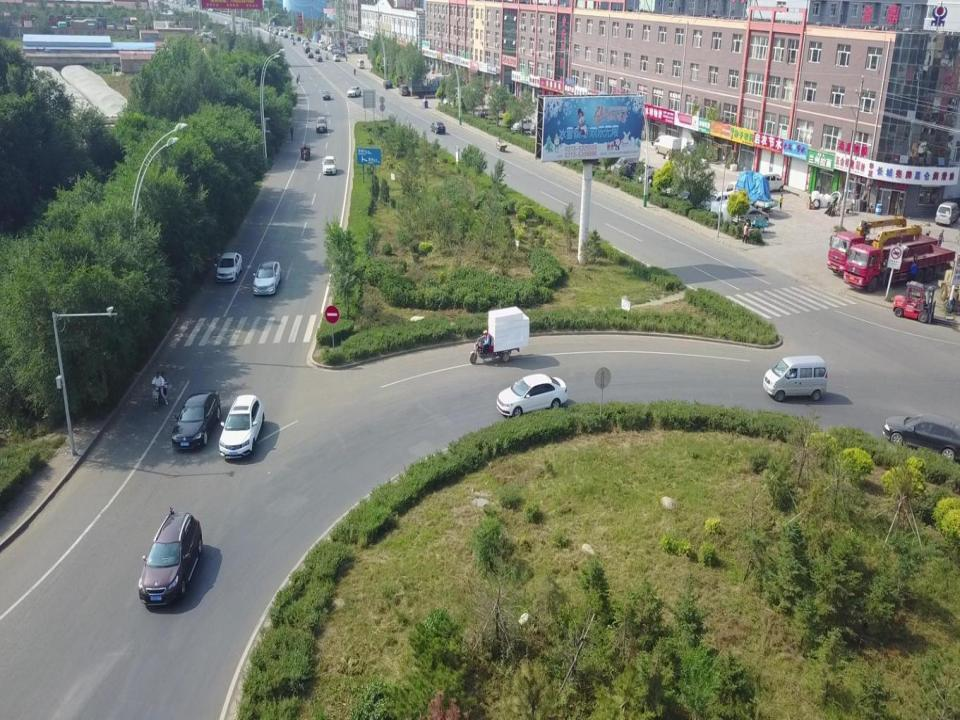car: (138, 511, 202, 608), (884, 412, 958, 465), (497, 374, 567, 419), (218, 394, 264, 458), (172, 390, 221, 450), (252, 260, 281, 296), (215, 253, 243, 282), (735, 207, 769, 227), (678, 184, 710, 204), (662, 178, 695, 197), (639, 166, 667, 185), (624, 160, 652, 178), (322, 154, 337, 175), (513, 118, 536, 130), (531, 121, 552, 134), (430, 120, 446, 133), (315, 116, 327, 132), (347, 86, 361, 97), (382, 79, 392, 89), (322, 90, 331, 99), (314, 56, 323, 62), (333, 48, 343, 53), (303, 47, 310, 54), (332, 55, 340, 61), (318, 40, 324, 47), (313, 48, 320, 54), (303, 41, 309, 48), (308, 51, 313, 58)
truck: (844, 230, 956, 292), (828, 219, 924, 275), (724, 180, 779, 216), (409, 77, 455, 99)
van: (762, 355, 826, 404), (702, 191, 736, 214), (935, 200, 960, 228), (653, 134, 680, 157), (754, 172, 783, 192), (613, 156, 639, 174), (398, 84, 409, 95), (358, 45, 370, 54), (356, 59, 365, 69), (328, 44, 336, 53)
